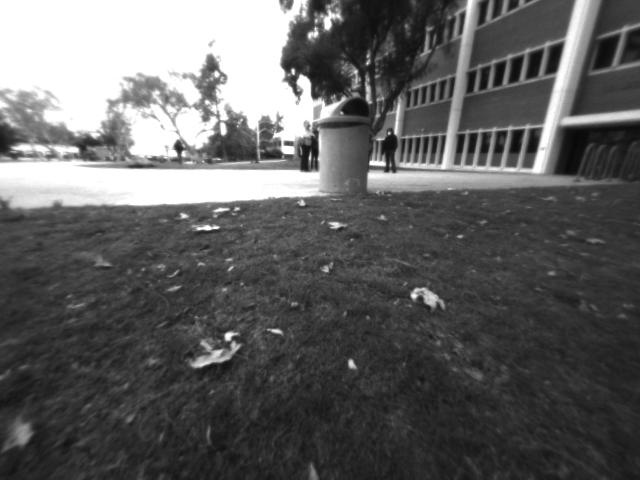trashcan: (315, 98, 377, 198)
